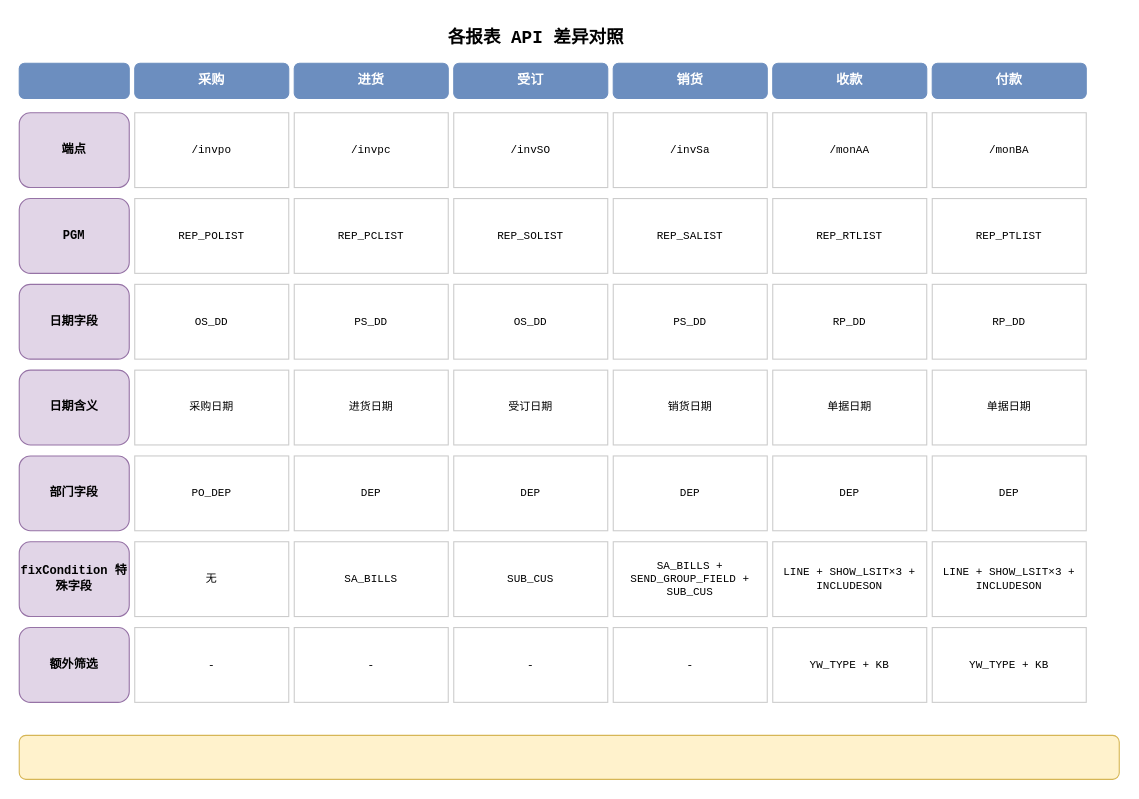
Image size: 1139x799. Some labels were removed from this diagram. The centre of each missing label's shape, as x and y in pixels:
⚠️ 每个报表的 SEARCH_INFO 结构看似相同，实则细节差异多，必须逐报表对照 API 文档，不可复制粘贴后直接改 PGM。: point (568, 756)
要素: point (73, 80)
